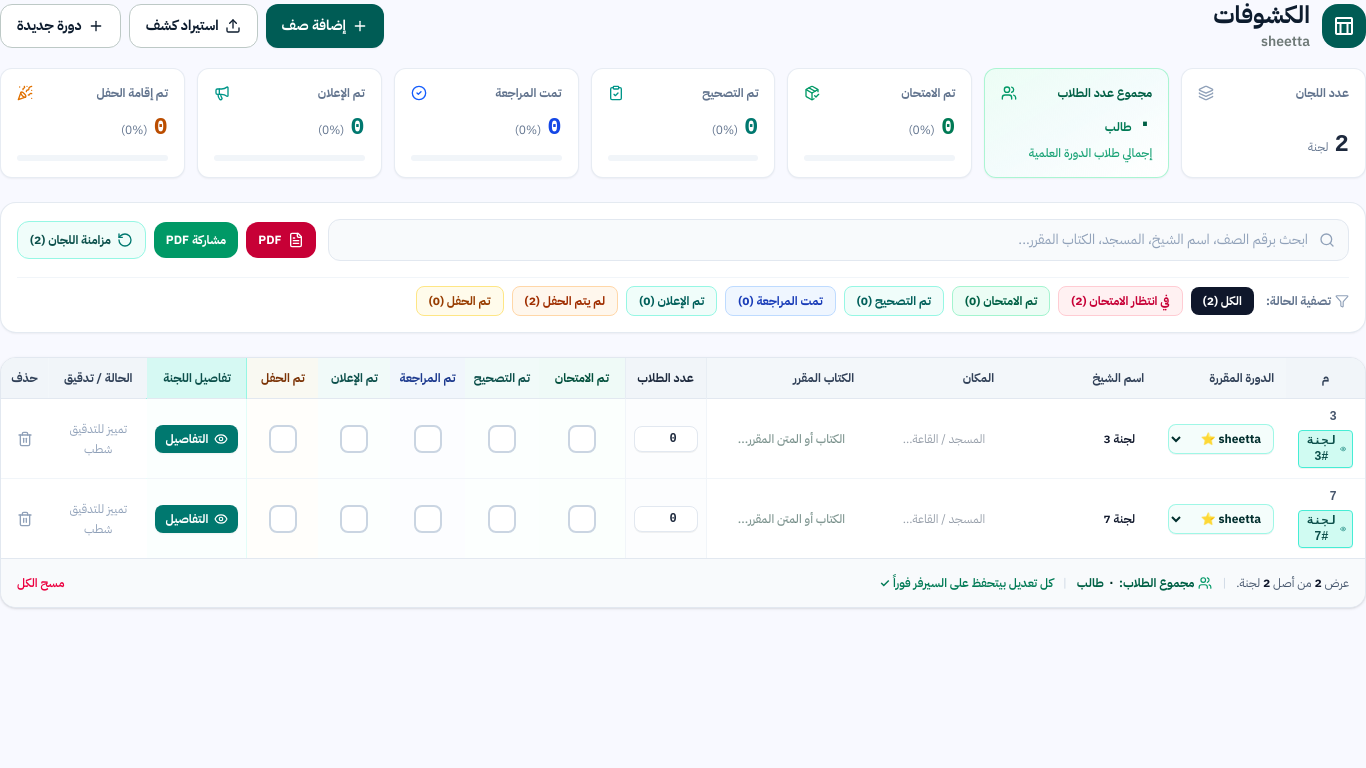
course sheet: add row and add course windows › «إضافة صف جديد» creates a committee with the next number and the typed sheikh
Click the button "إضافة صف".
click(325, 26)  # box [266,4,384,48]
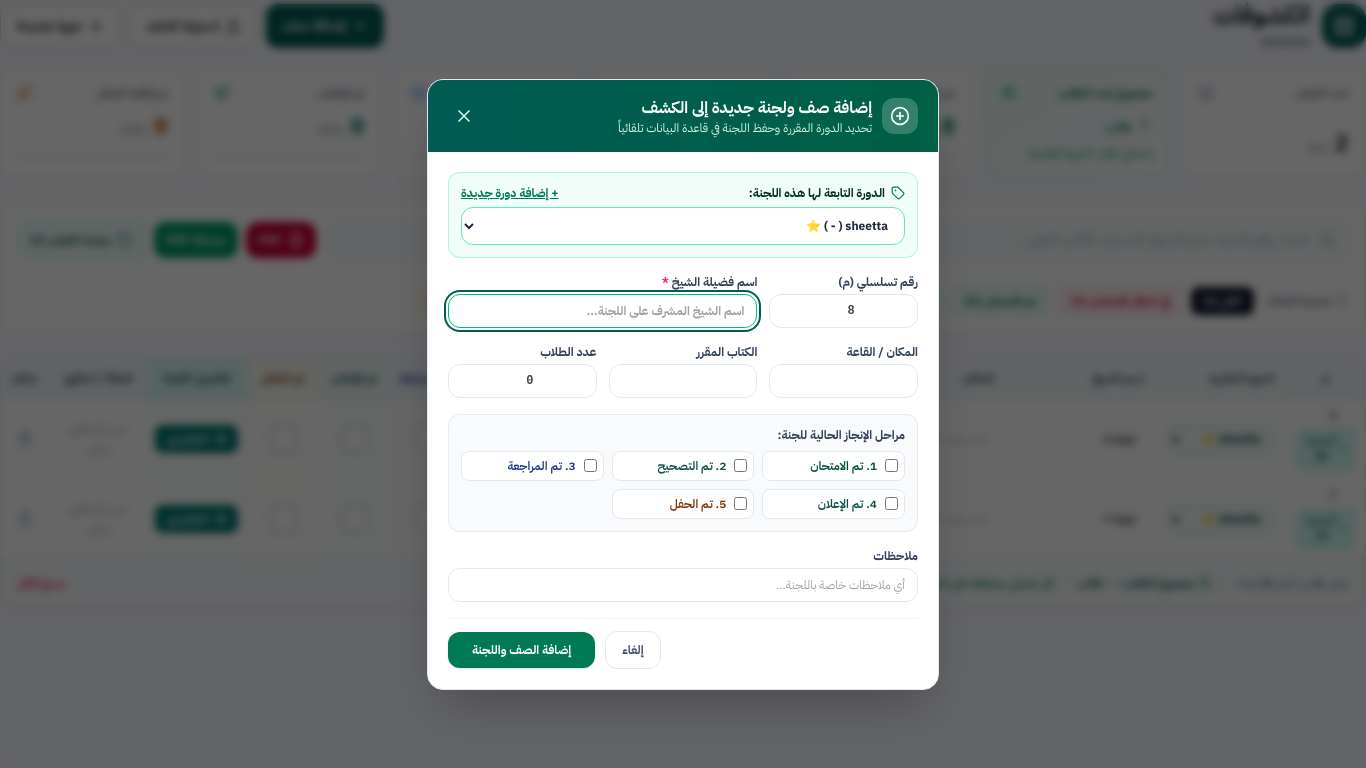
Type "الشيخ هشام" into the field with placeholder "اسم الشيخ المشرف على اللجنة...".
click(603, 310); type("الشيخ هشام")  # box [448,294,757,328]
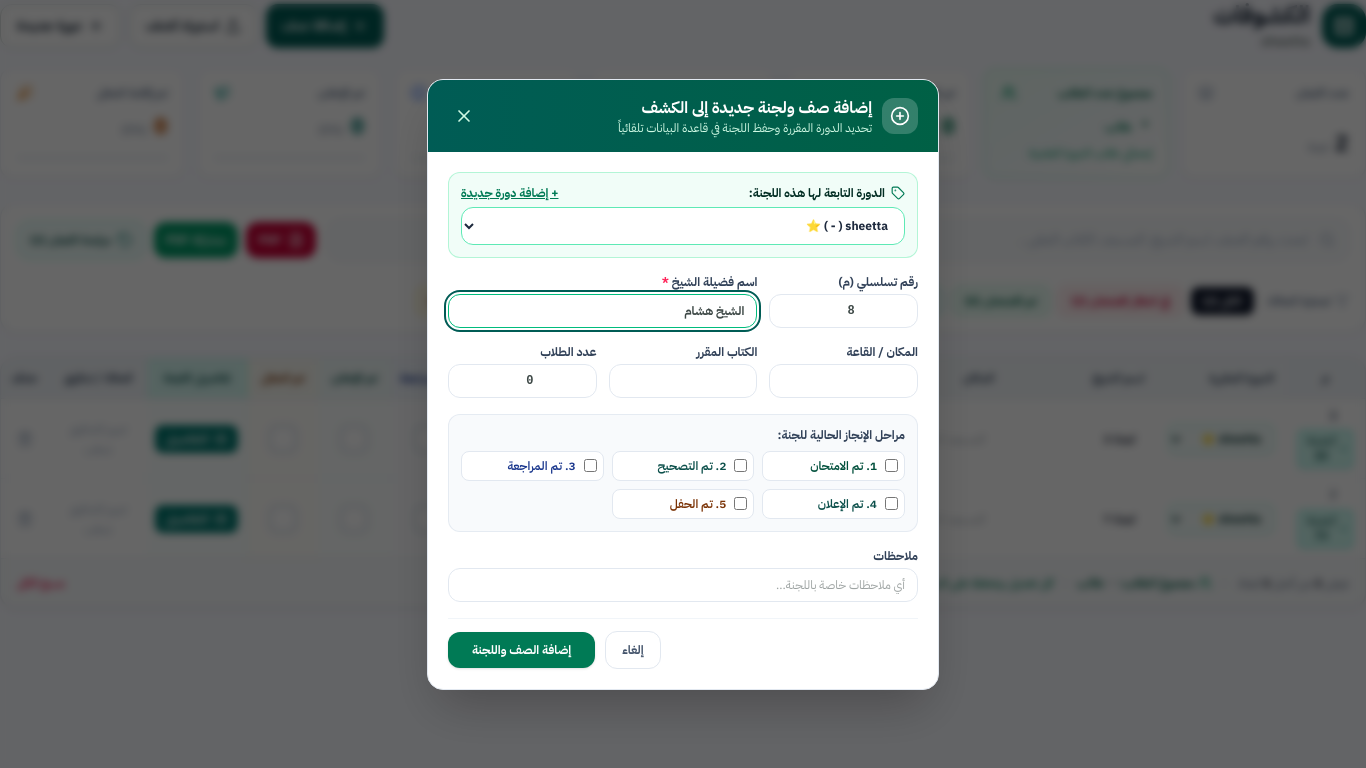
Click the button "إضافة الصف واللجنة".
click(522, 650)  # box [448,632,595,668]
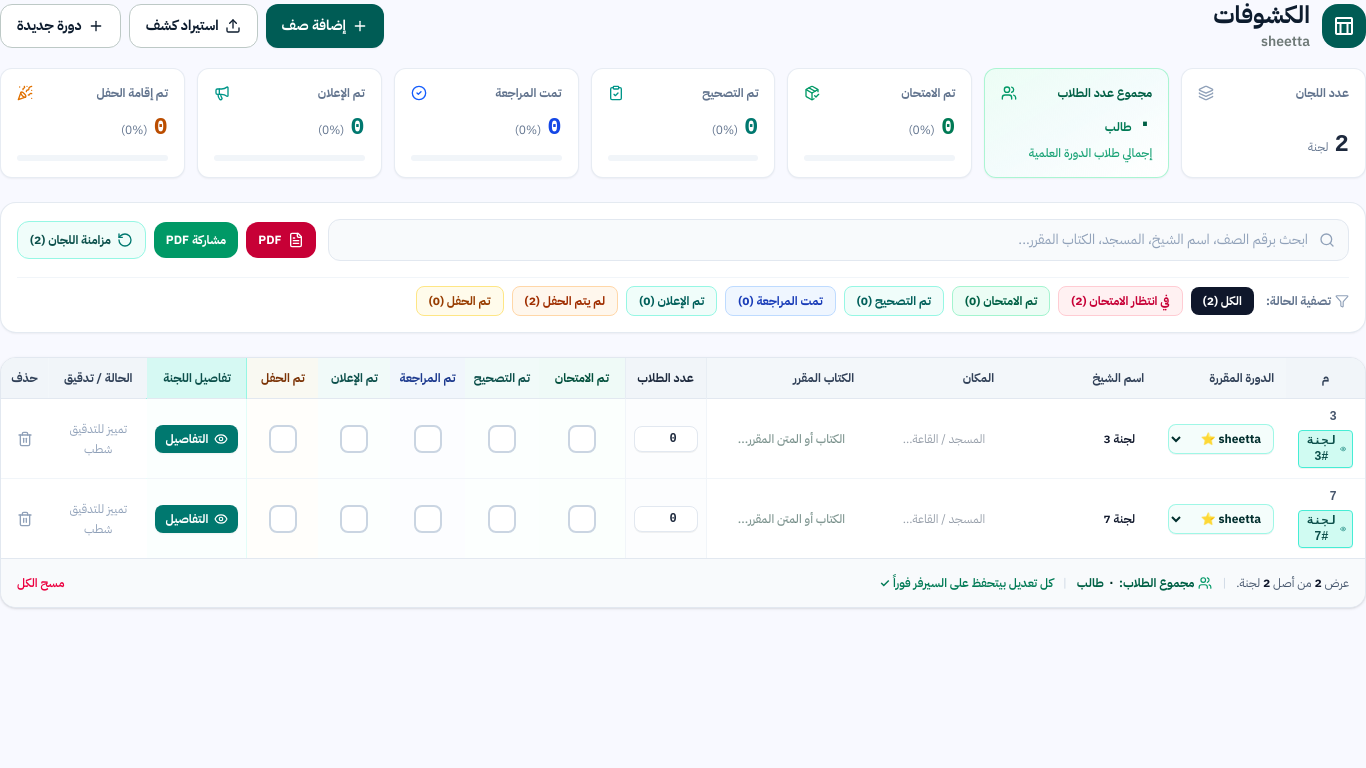
Check: the button "إضافة الصف واللجنة" is gone
